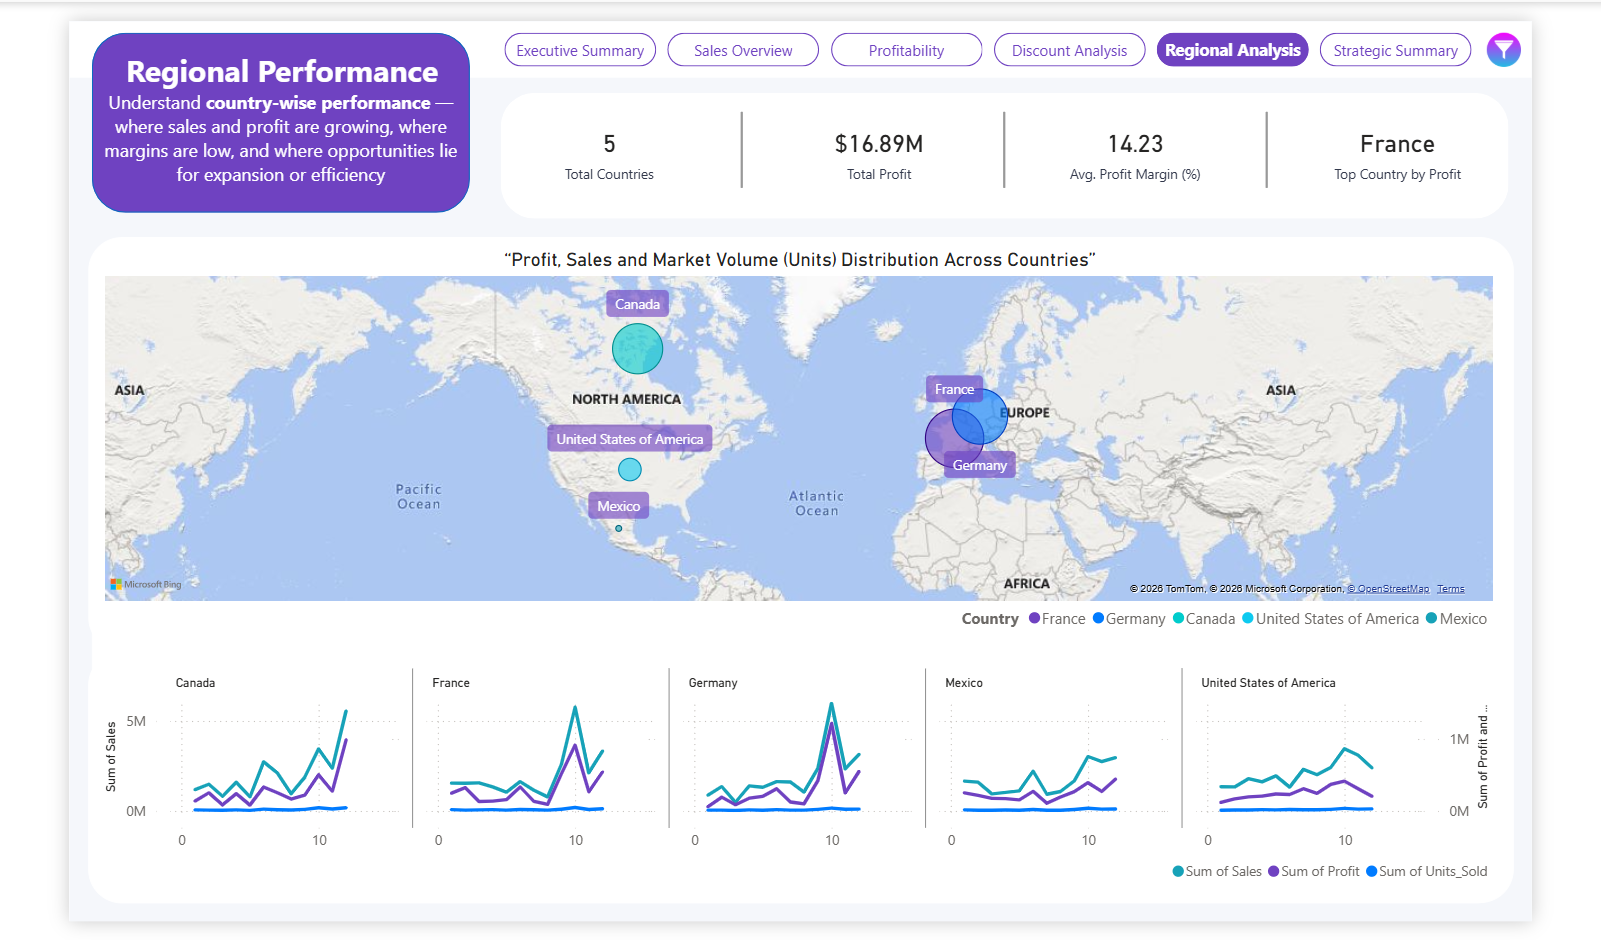

The dashboard page shown, as its layout file describes it:
{"tool":"powerbi","page":{"name":"Regional Analysis","canvas":[1300,800],"ordinal":4},"visuals":[{"type":"shape","box":[0,0,1300,50],"z":0},{"type":"shape","box":[384,64,896,112],"z":0,"group":"g2"},{"type":"card","fields":{"Values":["finance_data.Total Countries"]},"box":[400,74.7,160,85.3],"z":0,"group":"g1"},{"type":"image","box":[1260,10,30,30],"z":1000},{"type":"group","id":"g1","title":"Group 1","box":[400,74.7,864,85.3],"z":1000,"group":"g2"},{"type":"card","fields":{"Values":["finance_data.Total Profit"]},"box":[640,74.7,160,85.3],"z":1000,"group":"g1"},{"type":"card","fields":{"Values":["finance_data.Profit Margin (%)"]},"box":[865.8,74.7,165.3,85.3],"z":2000,"group":"g1"},{"type":"shape","box":[583.1,81.1,32,68.3],"z":2000,"group":"g2"},{"type":"shape","box":[19,192,1264,592],"z":2000,"group":"g3"},{"type":"pageNavigator","box":[387,10,864,30],"z":3000},{"type":"card","fields":{"Values":["finance_data.Top Country by Profit"]},"box":[1098.7,74.7,165.3,85.3],"z":3000,"group":"g1"},{"type":"shape","box":[816,81.1,32,68.3],"z":3000,"group":"g2"},{"type":"shape","box":[20,10,336,160],"z":4000},{"type":"shape","box":[1048.9,81.1,32,68.3],"z":4000,"group":"g2"},{"type":"textbox","box":[20,20,338,48],"z":5000},{"type":"textbox","box":[20,55,336,96],"z":6000},{"type":"group","id":"g2","title":"Group 2","box":[384,64,896,112],"z":7000},{"type":"map","title":"“Profit, Sales and Market Volume (Units) Distribution Across Countries”","fields":{"Category":["finance_data.Country"],"Size":["Sum(finance_data.Profit)"],"Series":["finance_data.Country"]},"box":[16,192,1264,368],"z":8000,"group":"g3"},{"type":"lineChart","fields":{"Category":["finance_data.Date.Variation.Date Hierarchy.Day"],"Y":["Sum(finance_data.Sales)"],"Y2":["Sum(finance_data.Profit)","Sum(finance_data.Units_Sold)"],"Rows":["finance_data.Country"]},"box":[16,560,1264,224],"z":9000,"group":"g3"},{"type":"group","id":"g3","title":"Group 3","box":[16,192,1267,592],"z":9001}]}

Visuals, with their boxes on the page's 1300x800 design canvas (x1, y1, x2, y2). These are canvas units, not pixel positions in the 1601x940 screenshot, which may show the page scaled, cropped or inside an application window:
shape: pyautogui.locateOnScreen(0, 0, 1300, 50)
shape: pyautogui.locateOnScreen(384, 64, 1280, 176)
card - finance_data.Total Countries: pyautogui.locateOnScreen(400, 75, 560, 160)
image: pyautogui.locateOnScreen(1260, 10, 1290, 40)
"Group 1" group: pyautogui.locateOnScreen(400, 75, 1264, 160)
card - finance_data.Total Profit: pyautogui.locateOnScreen(640, 75, 800, 160)
card - finance_data.Profit Margin (%): pyautogui.locateOnScreen(866, 75, 1031, 160)
shape: pyautogui.locateOnScreen(583, 81, 615, 149)
shape: pyautogui.locateOnScreen(19, 192, 1283, 784)
pageNavigator: pyautogui.locateOnScreen(387, 10, 1251, 40)
card - finance_data.Top Country by Profit: pyautogui.locateOnScreen(1099, 75, 1264, 160)
shape: pyautogui.locateOnScreen(816, 81, 848, 149)
shape: pyautogui.locateOnScreen(20, 10, 356, 170)
shape: pyautogui.locateOnScreen(1049, 81, 1081, 149)
textbox: pyautogui.locateOnScreen(20, 20, 358, 68)
textbox: pyautogui.locateOnScreen(20, 55, 356, 151)
"Group 2" group: pyautogui.locateOnScreen(384, 64, 1280, 176)
"“Profit, Sales and Market Volume (Units) Distribution Across Countries”" map: pyautogui.locateOnScreen(16, 192, 1280, 560)
lineChart - finance_data.Date.Variation.Date Hierarchy.Day x Sum(finance_data.Sales): pyautogui.locateOnScreen(16, 560, 1280, 784)
"Group 3" group: pyautogui.locateOnScreen(16, 192, 1283, 784)
